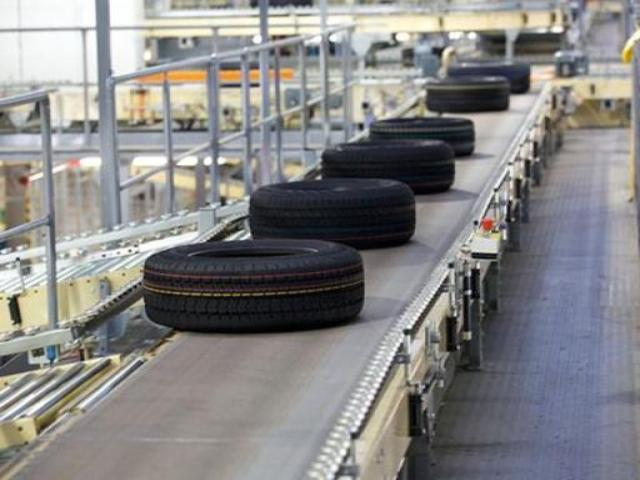conveyor: (0, 62, 561, 480)
